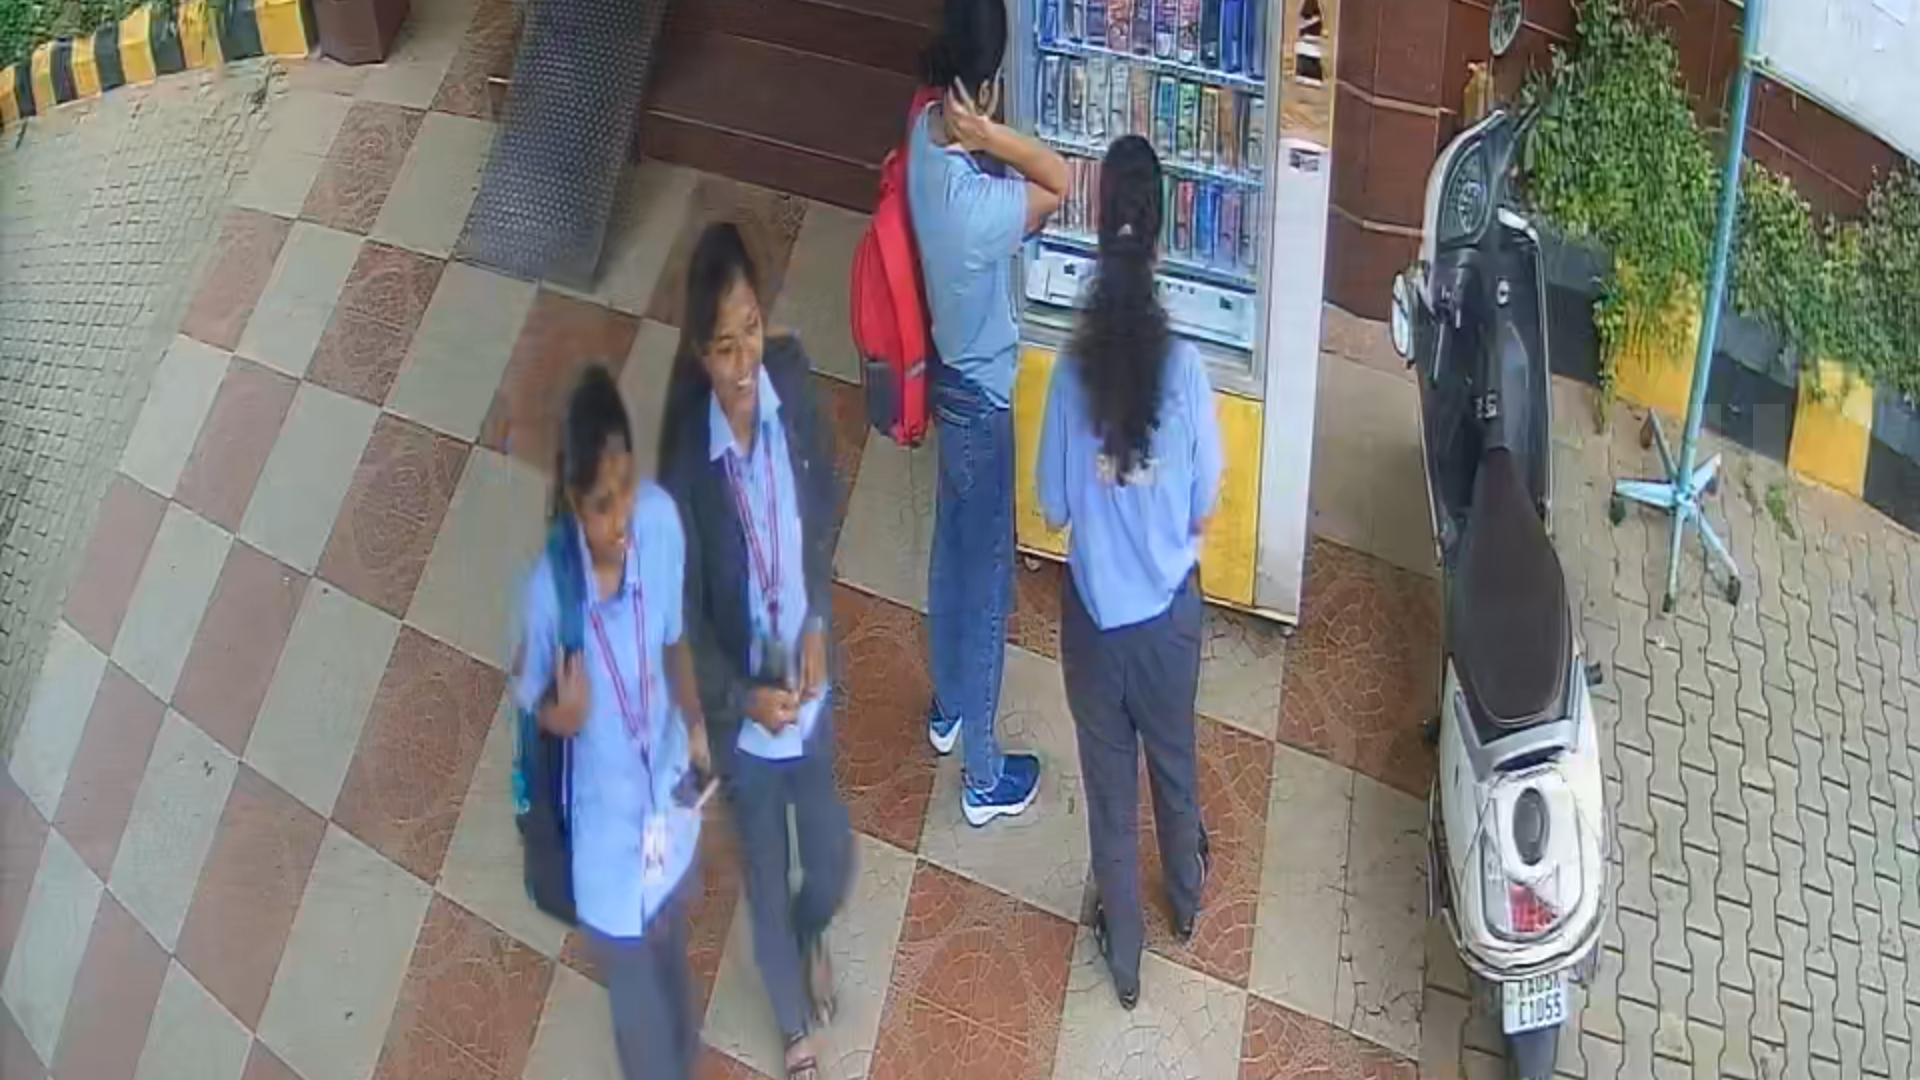not intruder: (661, 220, 868, 1080), (495, 347, 725, 1058)
